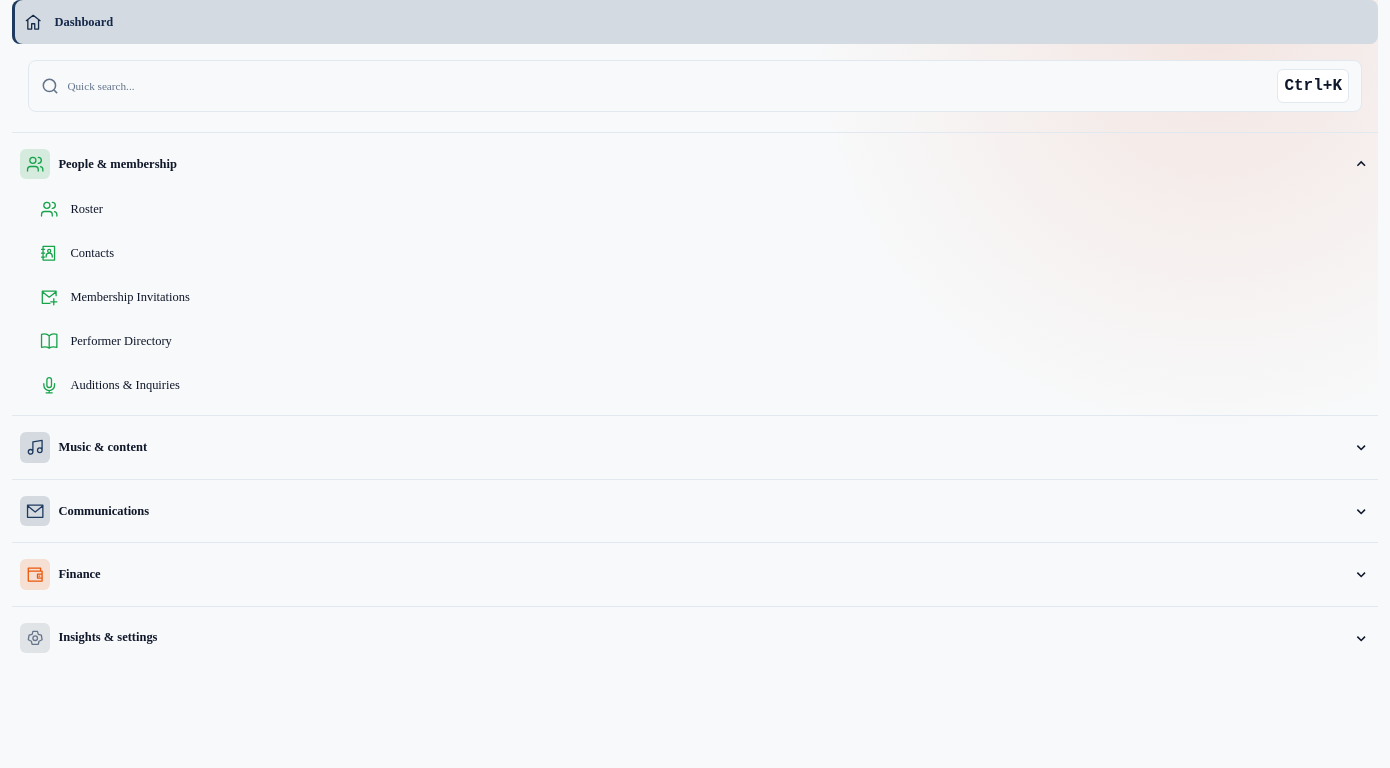
Test case: Organization-only navigation preferences › retains valid expanded IDs when modules change while hiding empty groups
The width and height of the screenshot is (1390, 768).
Click the button "People & membership": click(35, 164) [12,141,1378,187]
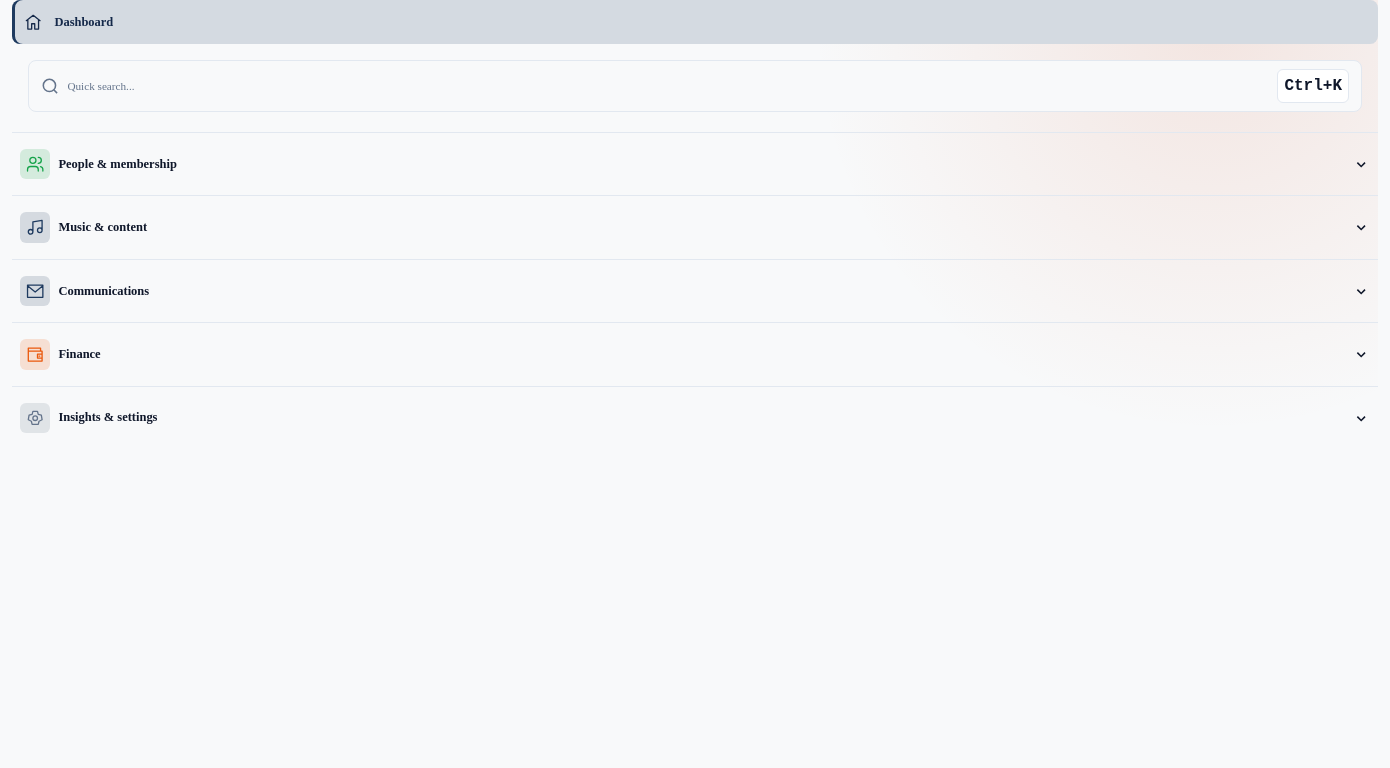
Expected: the button "People & membership" is collapsed, [12,141,1378,187]
